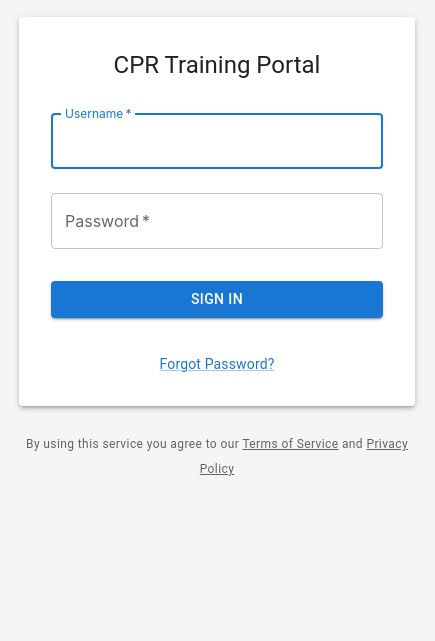
Test: Login Component › shows validation errors for empty fields
Step 1. Click the button "Sign In" → (217, 300), box [51, 281, 383, 318]
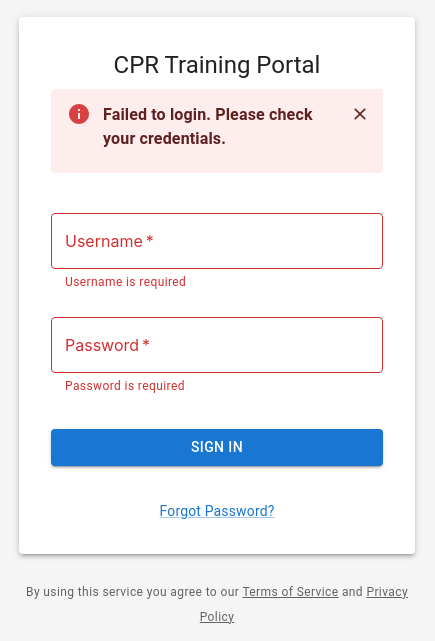
Expected: the text "Username is required" is shown, [65, 275, 186, 289]
Expected: the text "Password is required" is shown, [65, 379, 185, 393]
